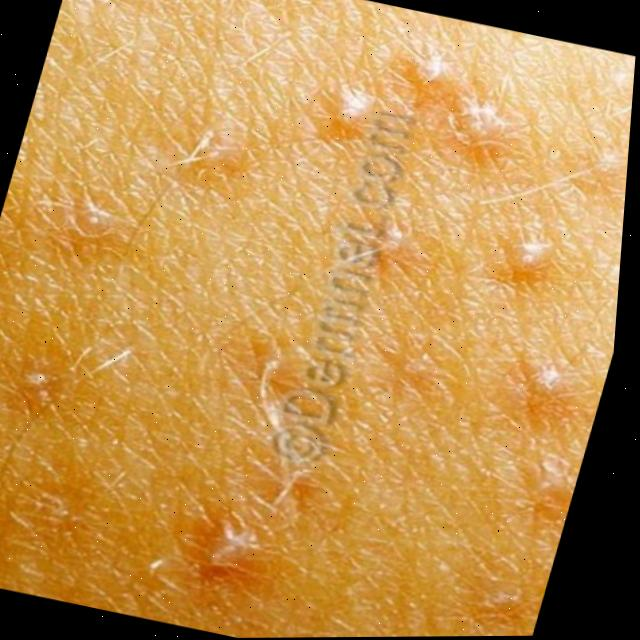Eczema: (0, 8, 639, 632)
